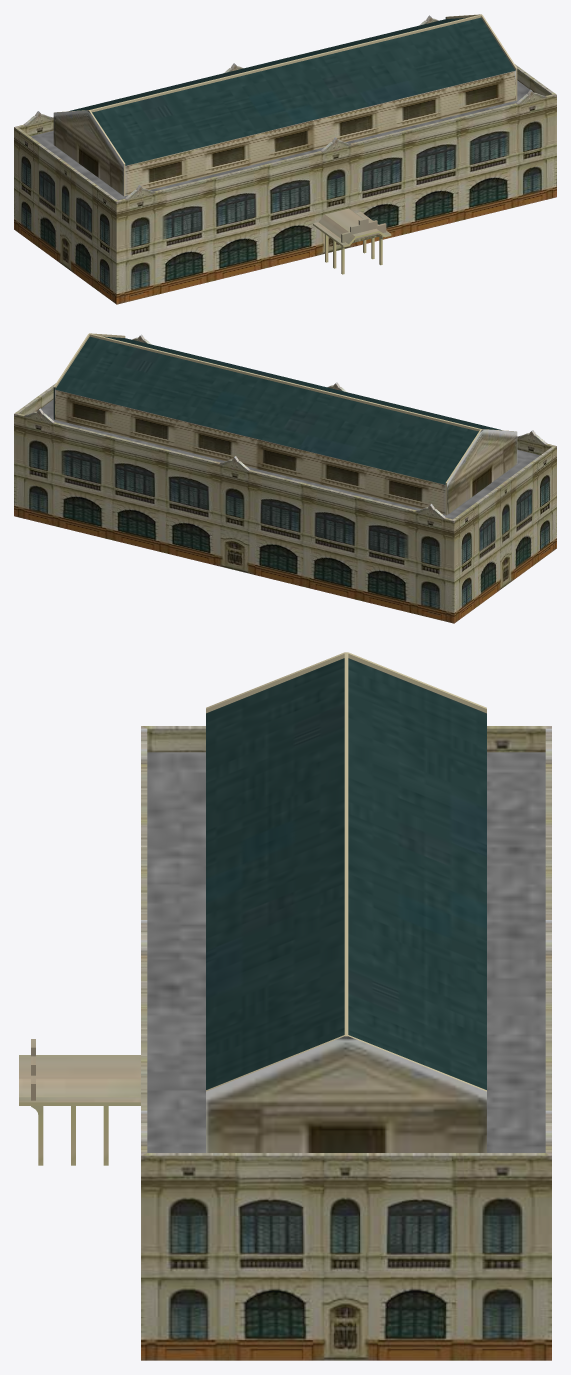
The picture shows the model from 3 angles, top to bottom: view 1: azimuth 30°, elevation 25°; view 2: azimuth 150°, elevation 25°; view 3: azimuth 270°, elevation 25°; orthographic projection. The views are drawn at different scales.
Parts seen in each view (by area): view 1: HN1236_VPUBNDHaNoi; view 2: HN1236_VPUBNDHaNoi; view 3: HN1236_VPUBNDHaNoi.
Boxes of the visible parts, x1,y1,x2,y2 form: HN1236_VPUBNDHaNoi: [14, 14, 556, 304]; HN1236_VPUBNDHaNoi: [14, 333, 556, 623]; HN1236_VPUBNDHaNoi: [19, 652, 551, 1360].
Bounding box in the file's own units: 47 × 15.37 × 24.64.
1 material, 1 textured.
